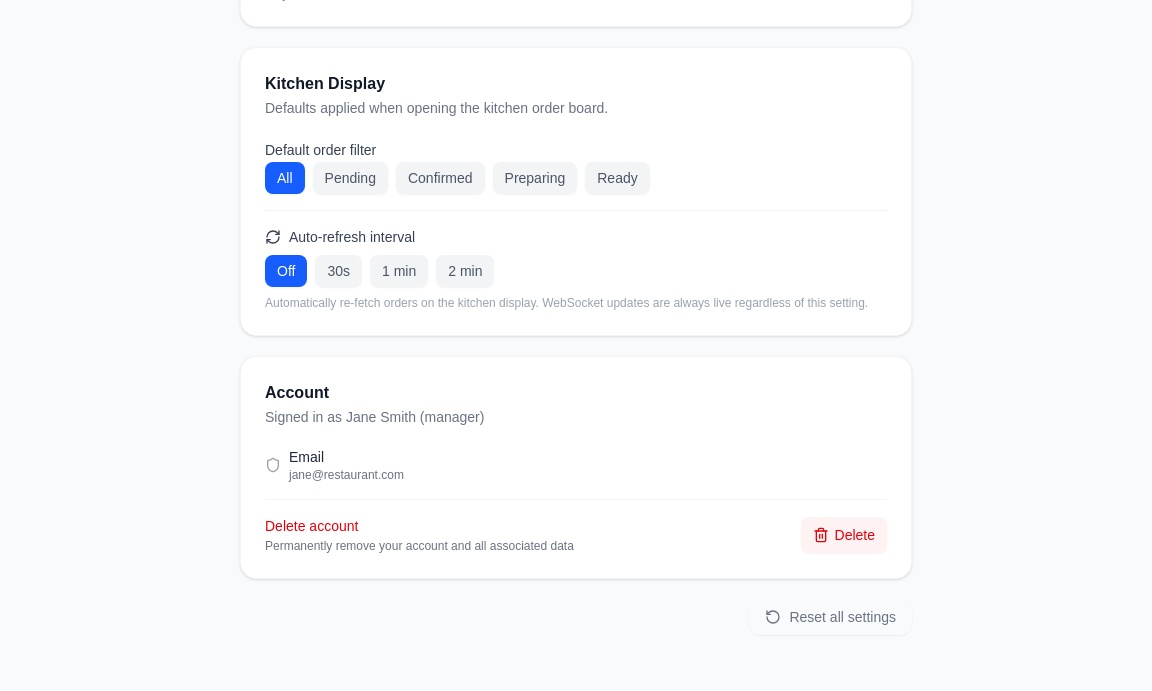
Test: SettingsPage › opens the delete modal when the Delete button is clicked
(page scrolled)
Click the button "Delete" at (844, 535), box x1=800 y1=517 x2=887 y2=553
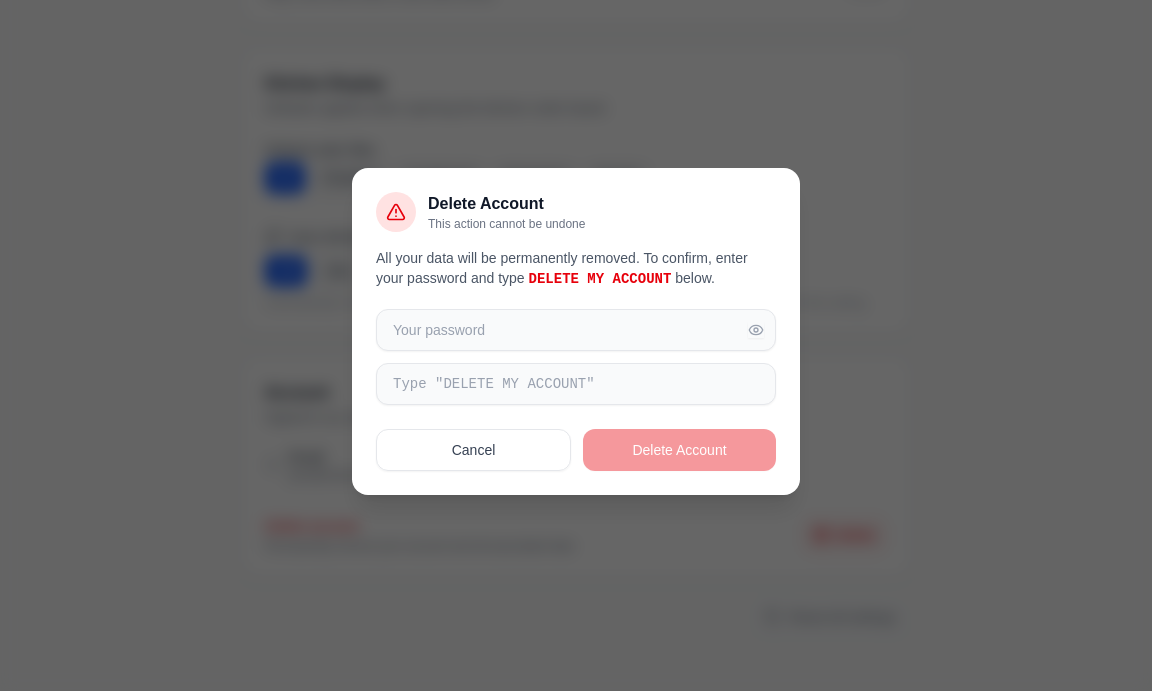
Expected: the heading "Delete Account" is shown, x1=428 y1=194 x2=544 y2=212
Expected: the password field with placeholder "Your password" is shown, x1=376 y1=308 x2=776 y2=350
